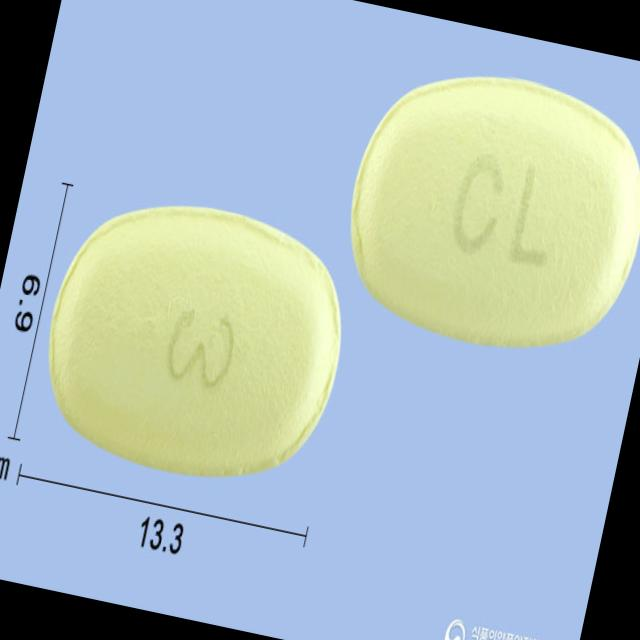Clamin: (22, 174, 369, 504), (325, 43, 640, 373)
